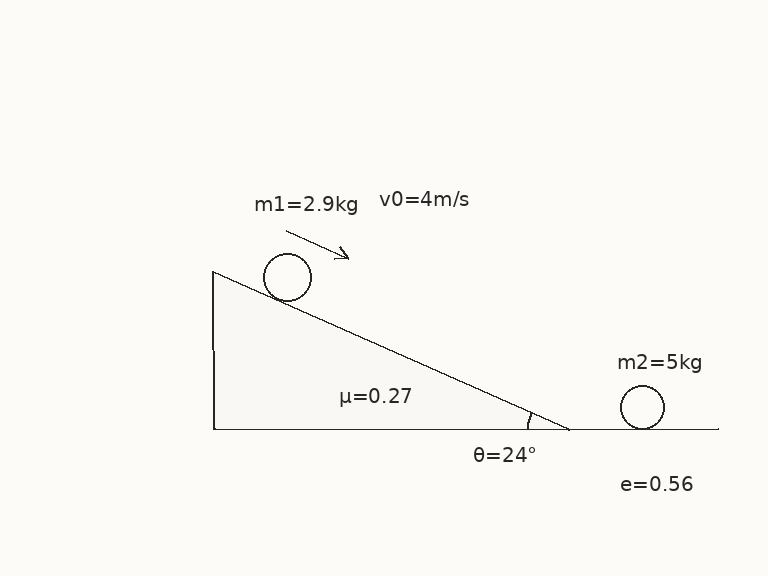ball: (261, 251, 313, 303), (618, 383, 666, 431)
ramp: (212, 269, 570, 431)
